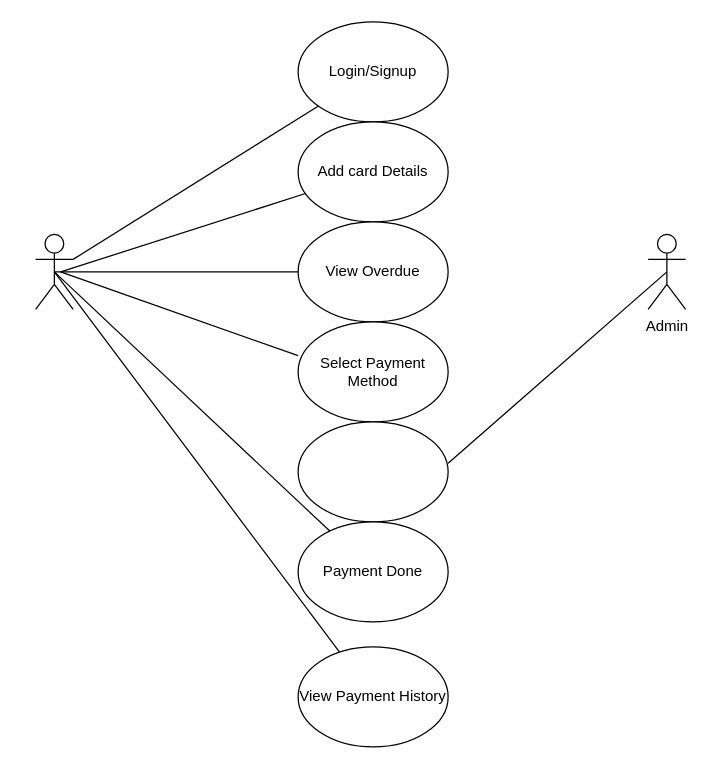
Image size: 710x769. Some labels were removed from this diagram. The shapes that lost their labels are listed below. From the top down, each one's centre as x and y in pixels, then its label:
At point 53,271: "Customer".
At point 372,471: "Authorise Transaction".
